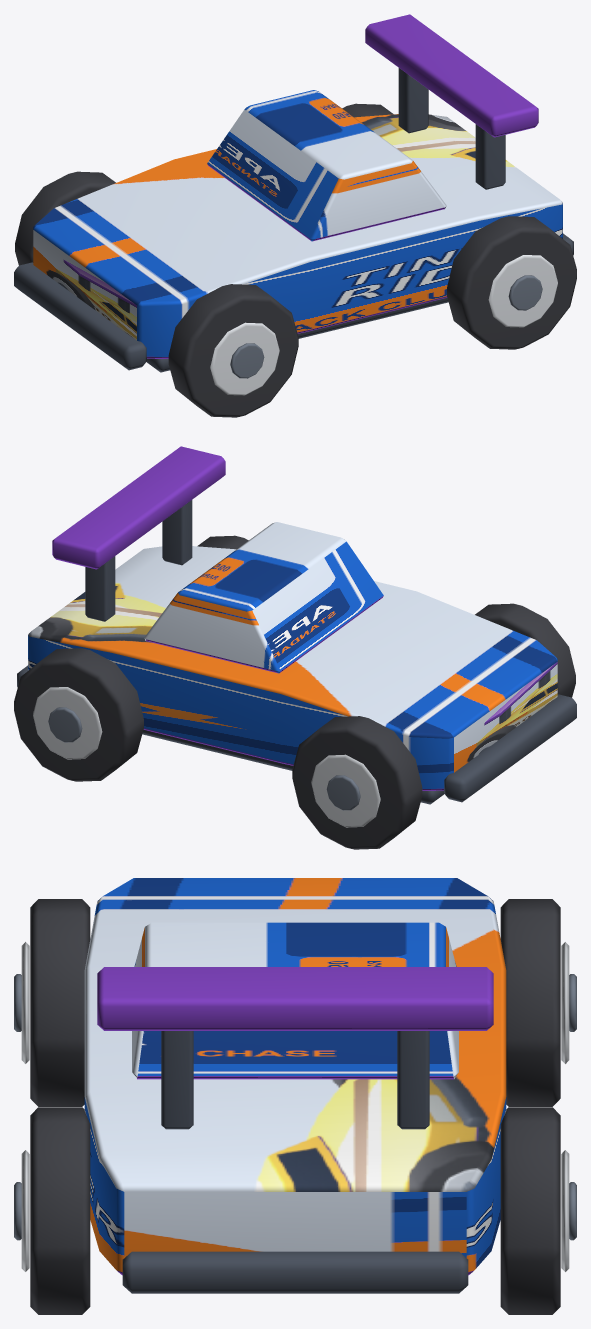
3 renders of one model, top to bottom at view 1: azimuth 30°, elevation 25°; view 2: azimuth 150°, elevation 25°; view 3: azimuth 270°, elevation 25°, orthographic. The views are drawn at different scales.
Parts seen in each view (by area): view 1: TC-05_connected_shell, TC-05_cabin, Tire, Tire.002, rear airfoil, front bumper, Rim, Rim.002, Tire.001, wing support, wing support.001, underbody (+3 smaller); view 2: TC-05_connected_shell, TC-05_cabin, Tire.001, Tire.003, rear airfoil, front bumper, Rim.001, Rim.003, Tire, wing support.001, wing support, underbody (+3 smaller); view 3: TC-05_connected_shell, TC-05_cabin, rear airfoil, rear bumper, Tire.002, Tire.003, Tire, Tire.001, wing support, wing support.001, Rim.002, Rim.003 (+2 smaller).
Part boxes in pixels (box(x1,y1,x2,y2)): TC-05_connected_shell: box(33, 114, 562, 358); TC-05_cabin: box(207, 90, 446, 241); Tire: box(168, 284, 298, 417); Tire.002: box(447, 216, 576, 349); rear airfoil: box(365, 14, 538, 137); front bumper: box(14, 262, 146, 370); Rim: box(210, 322, 279, 395); Rim.002: box(488, 255, 557, 327); Tire.001: box(15, 171, 115, 265); wing support: box(475, 124, 505, 189); wing support.001: box(398, 68, 428, 133); underbody: box(146, 298, 448, 372); TC-05_connected_shell: box(28, 546, 557, 790); TC-05_cabin: box(144, 522, 383, 673); Tire.001: box(292, 716, 422, 849); Tire.003: box(14, 648, 143, 781); rear airfoil: box(52, 446, 225, 569); front bumper: box(444, 694, 576, 802); Rim.001: box(311, 754, 380, 827); Rim.003: box(33, 687, 102, 759); Tire: box(475, 603, 575, 697); wing support.001: box(85, 556, 115, 621); wing support: box(162, 500, 192, 565); underbody: box(142, 730, 444, 804); TC-05_connected_shell: box(84, 878, 506, 1275); TC-05_cabin: box(132, 922, 458, 1079); rear airfoil: box(97, 967, 493, 1030); rear bumper: box(122, 1251, 468, 1293); Tire.002: box(30, 1107, 90, 1314); Tire.003: box(500, 1107, 560, 1314); Tire: box(30, 899, 90, 1106); Tire.001: box(500, 899, 560, 1106); wing support: box(161, 1031, 193, 1129); wing support.001: box(397, 1031, 429, 1129); Rim.002: box(21, 1150, 29, 1271); Rim.003: box(561, 1150, 569, 1271).
Size of the model in its own units: 345 by 159 by 243.
